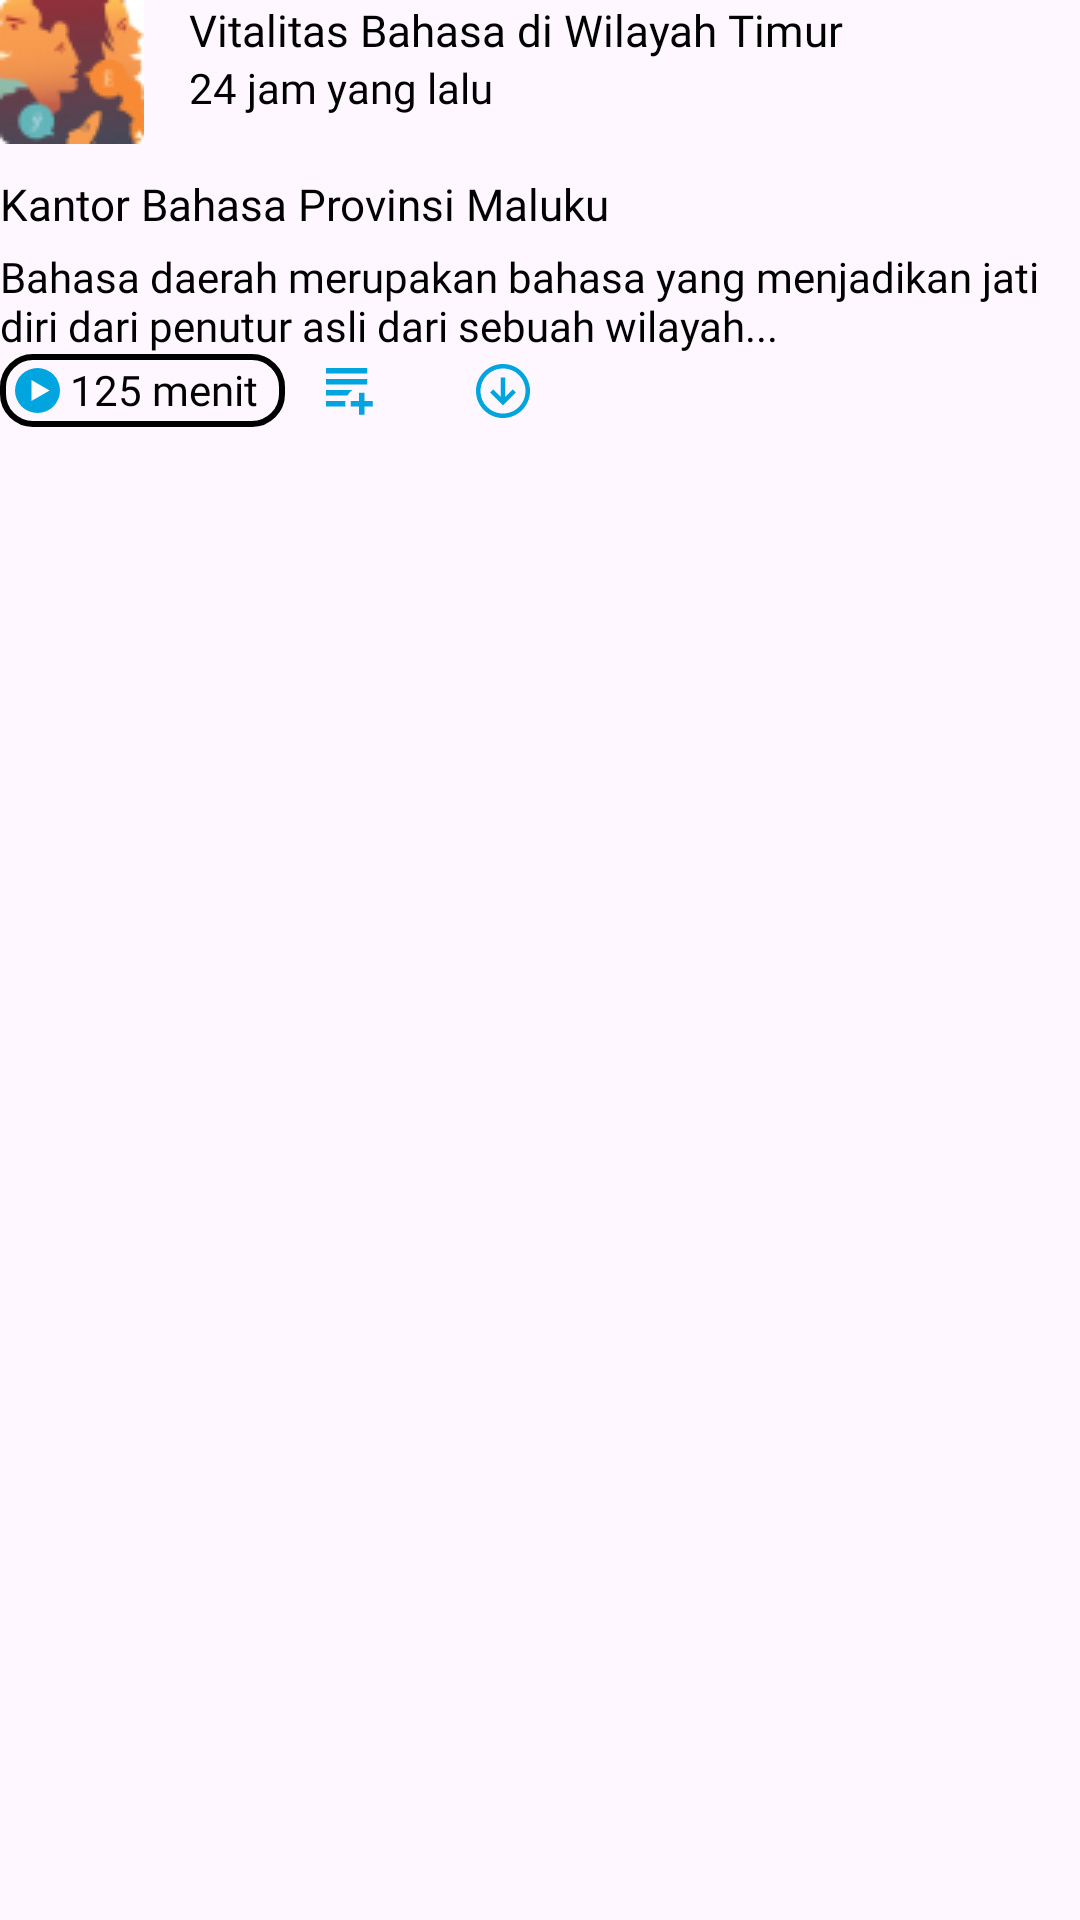

Icons on this 1080*1920 Android screen, each with its box as (x1, y1, x2, y2):
add playlist: (326, 368, 373, 415)
btnunduh: (476, 364, 530, 418)
siniarbahasa: (0, 0, 144, 144)
